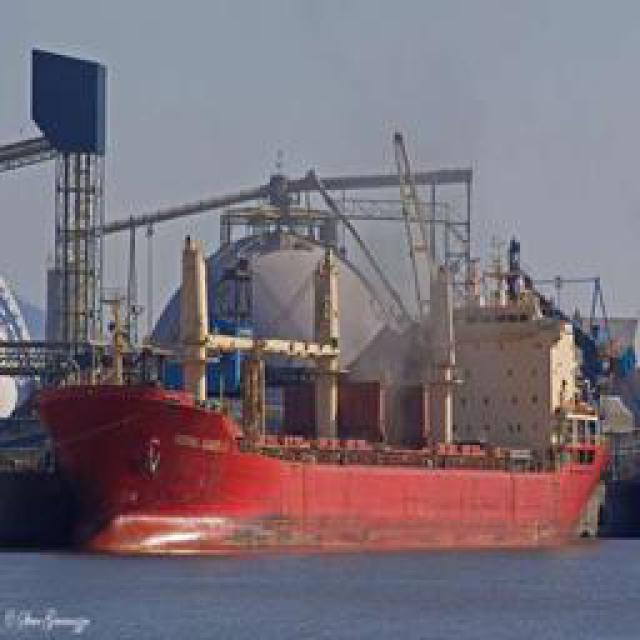Ship: (25, 127, 633, 567)
